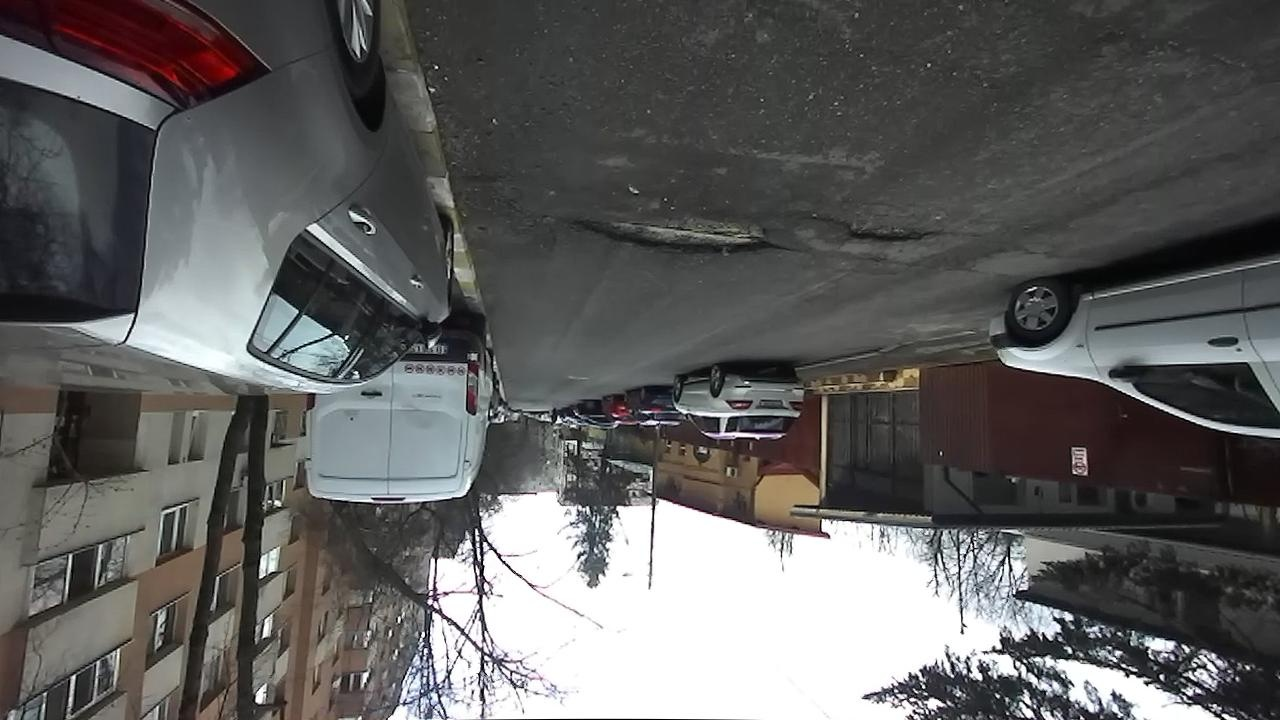pothole: (566, 209, 798, 258), (803, 206, 944, 245)
